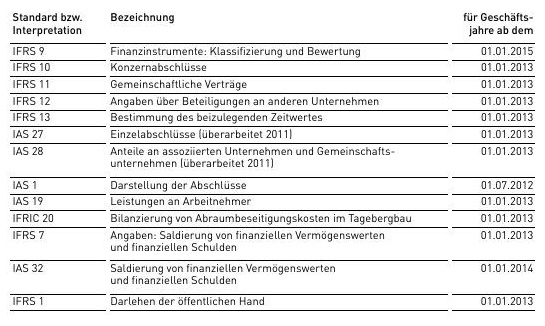table: (0, 0, 545, 326)
